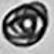correct: (2, 2, 49, 48)
